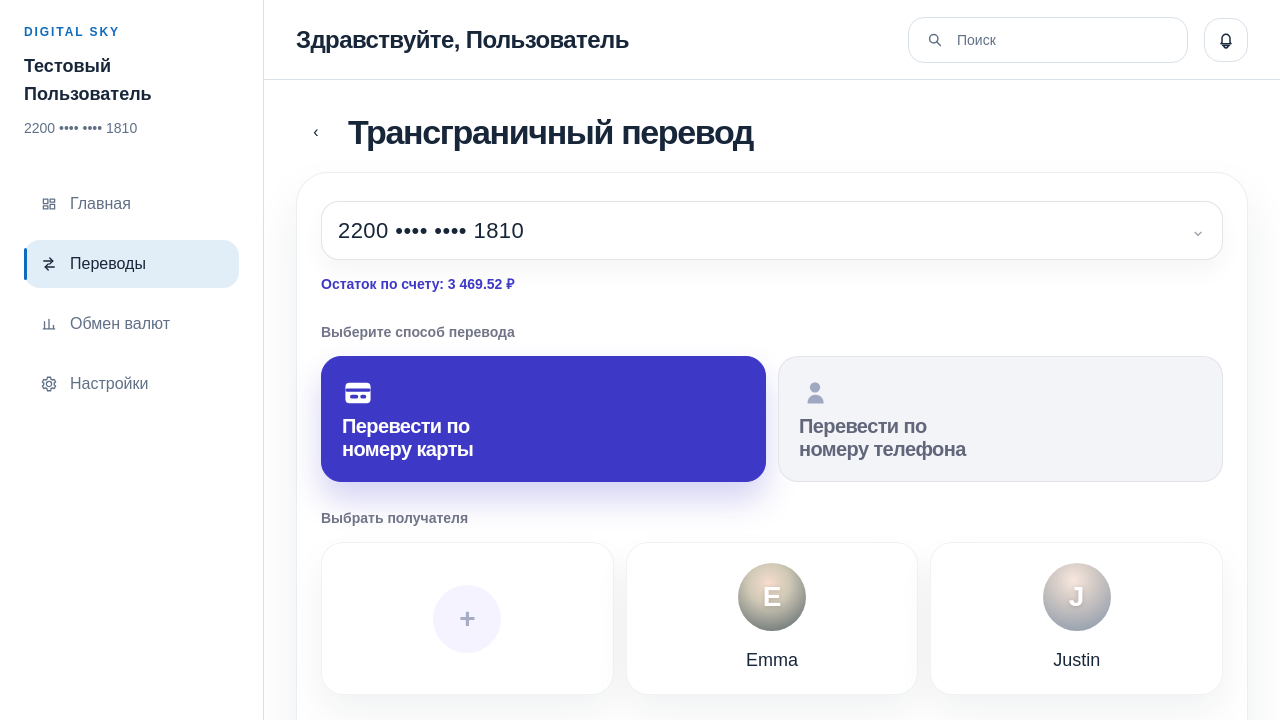
it: TransfersPage › prefills the current recipient identifier from favorites and keeps the input editable
The image size is (1280, 720).
Expected: the button "E Emma" is shown, [626,542,918,695]
Expected: the button "+" is shown, [321,542,614,695]
Click the button "J Justin" at (1077, 618), box [930,542,1223,695]
(page scrolled)
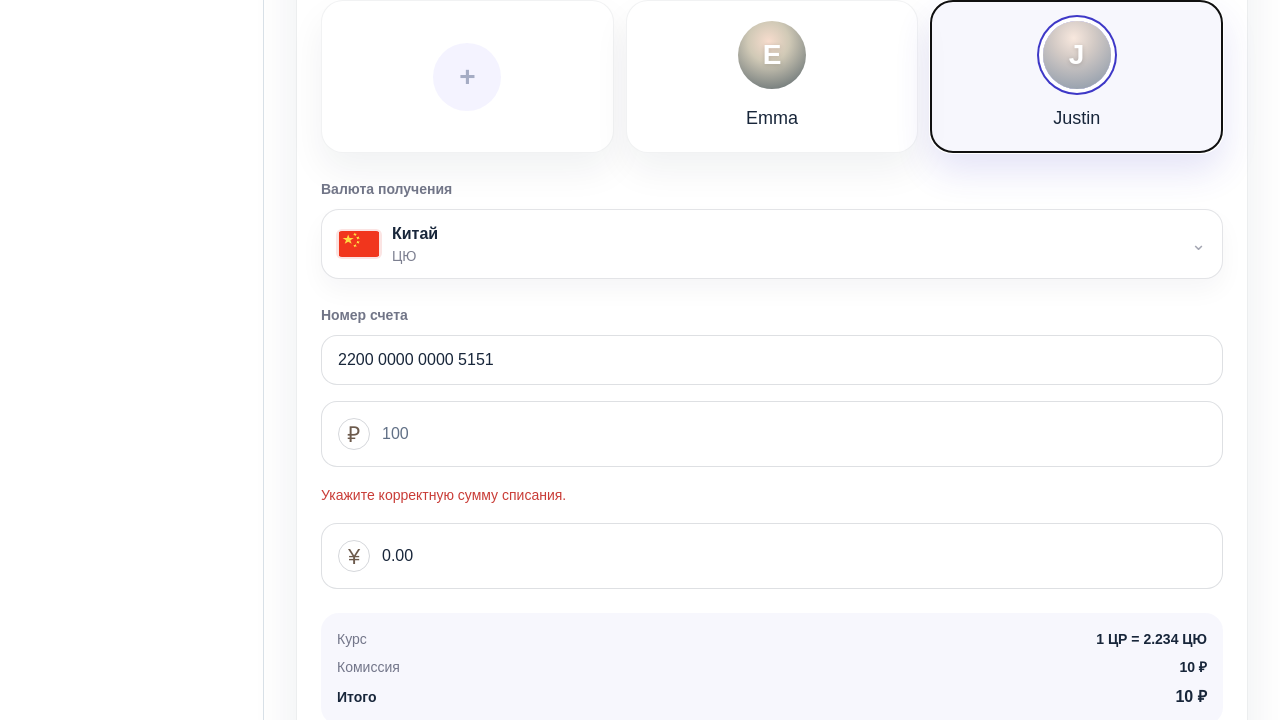
Expected: the field labelled "Номер счета" holds "2200 0000 0000 5151"
Type "9" into the field labelled "Номер счета" at (772, 360), box [321,335,1223,385]
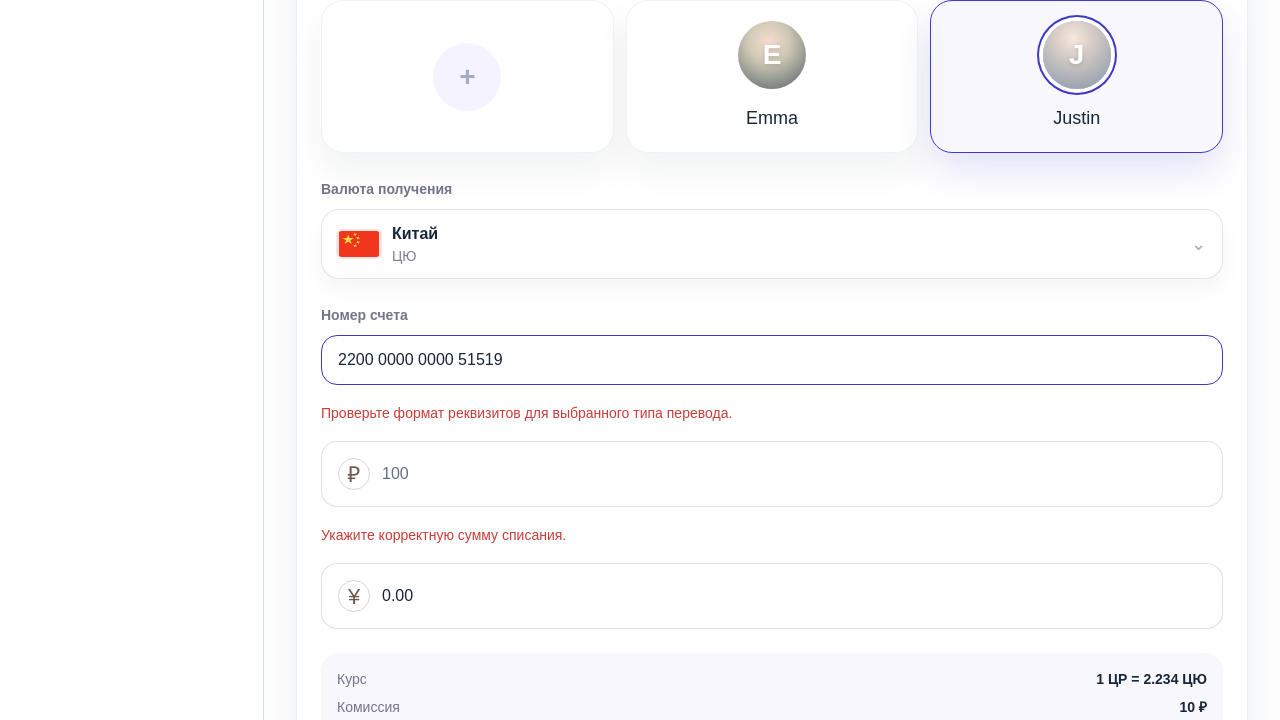
Expected: the field labelled "Номер счета" holds "2200 0000 0000 51519", [321,335,1223,385]
